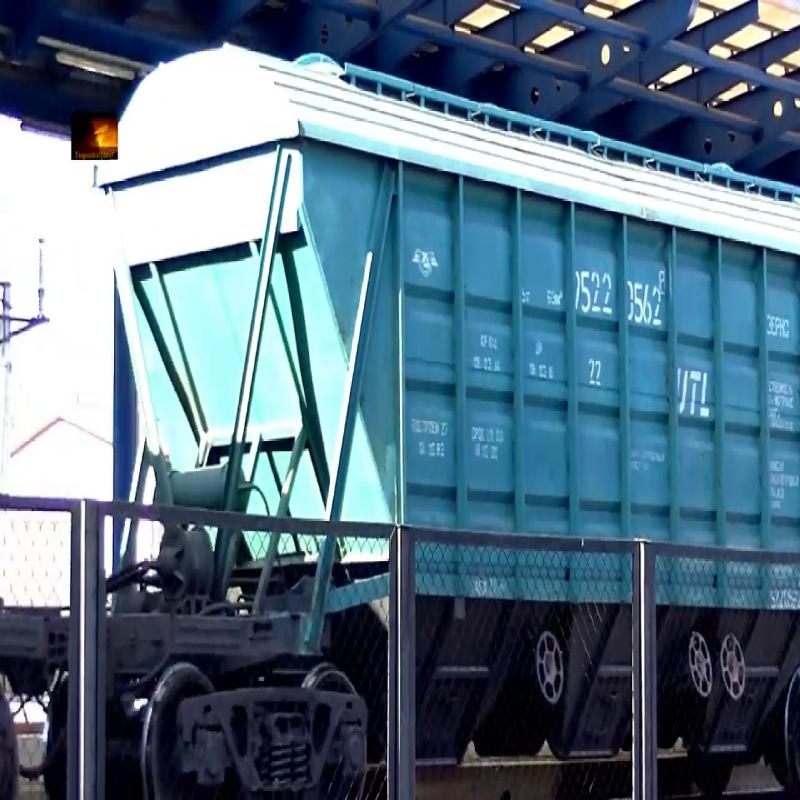train: (100, 10, 800, 775)
